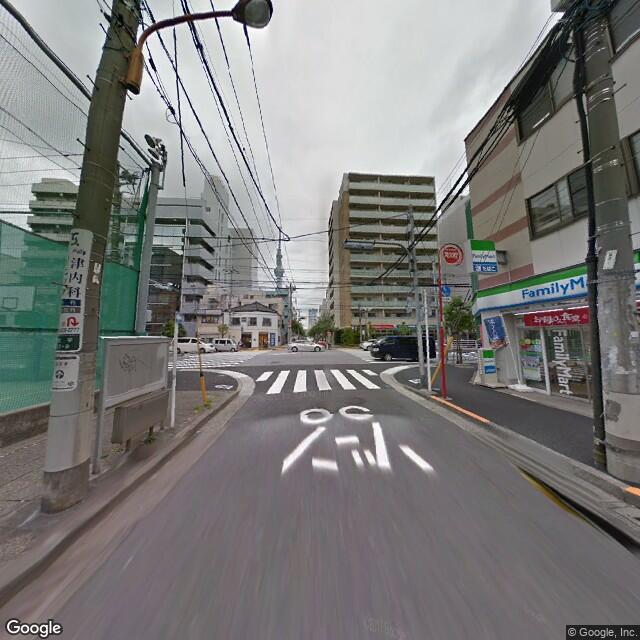family_mart: (472, 254, 592, 317), (547, 326, 575, 398), (469, 235, 499, 271)
